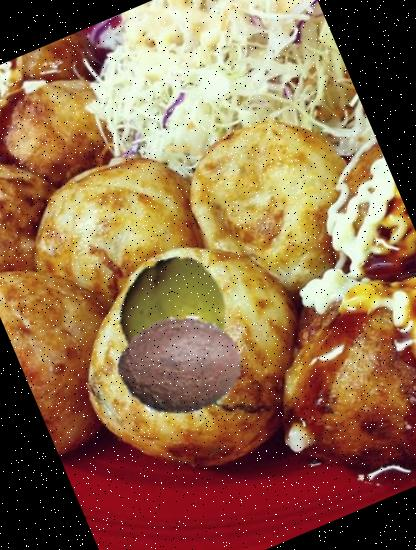Cocos: (98, 284, 260, 447)
Quince: (88, 237, 260, 410)
